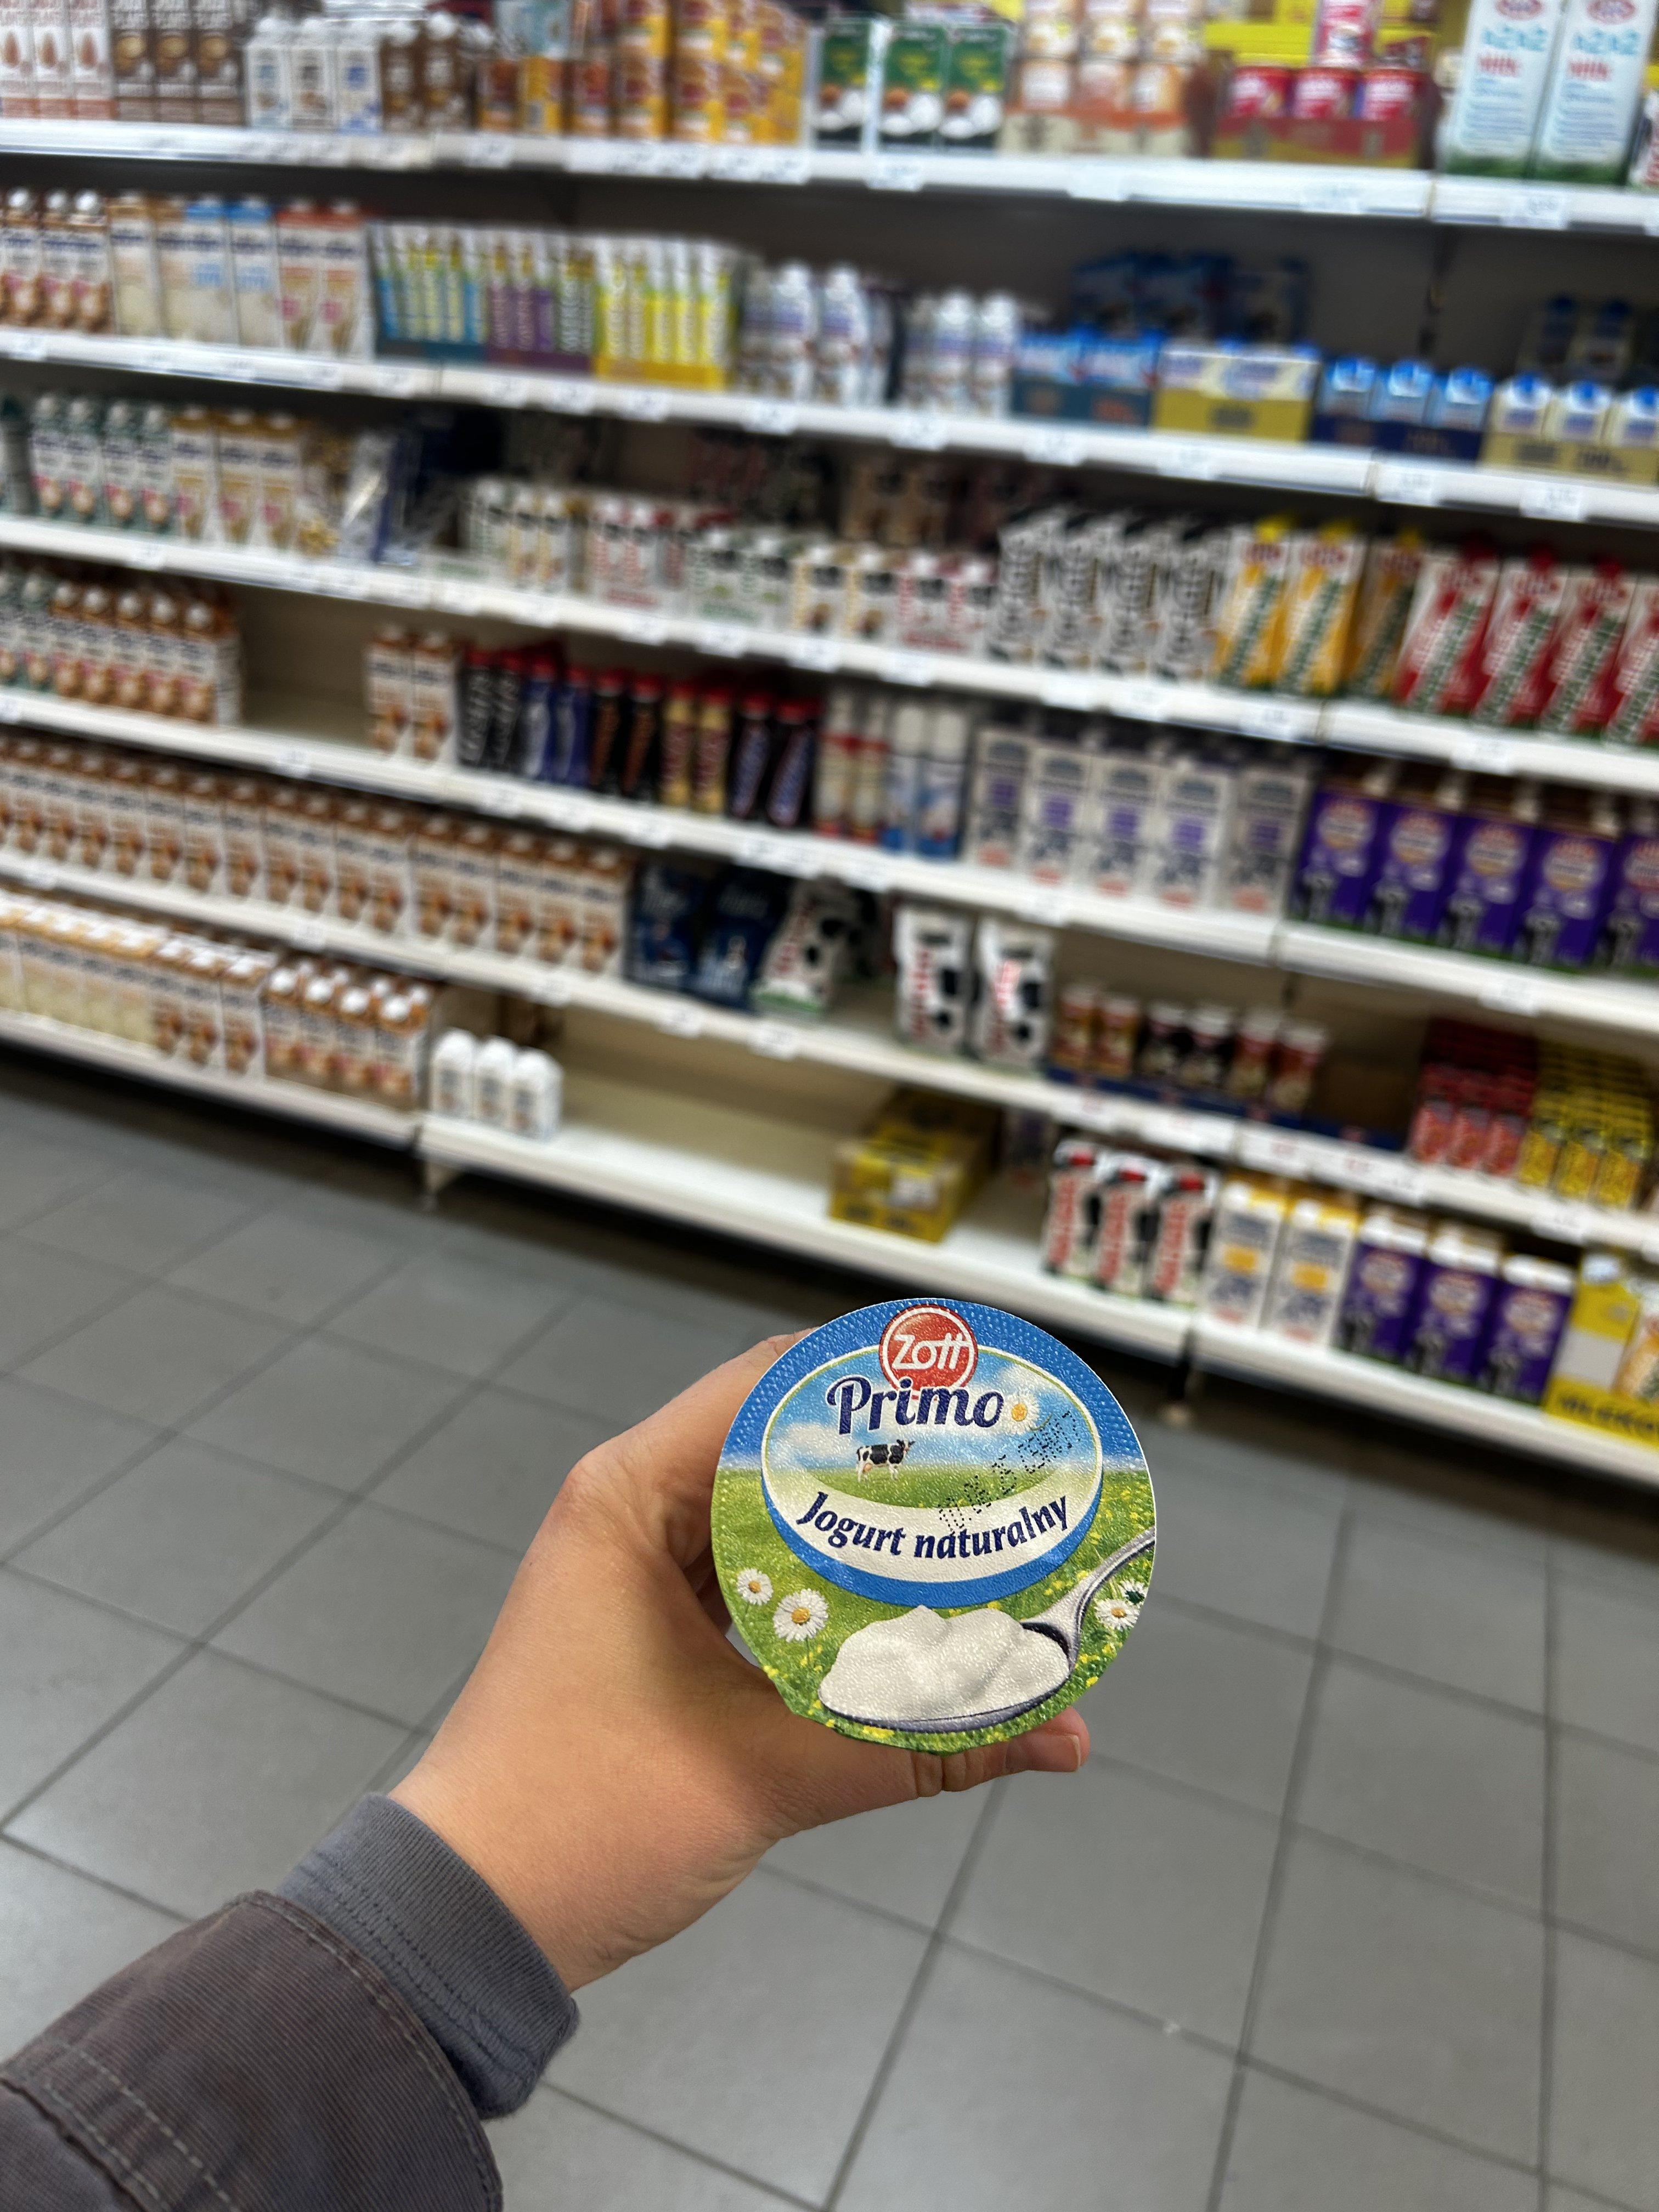Yogurt: (701, 1287, 1147, 1750)
